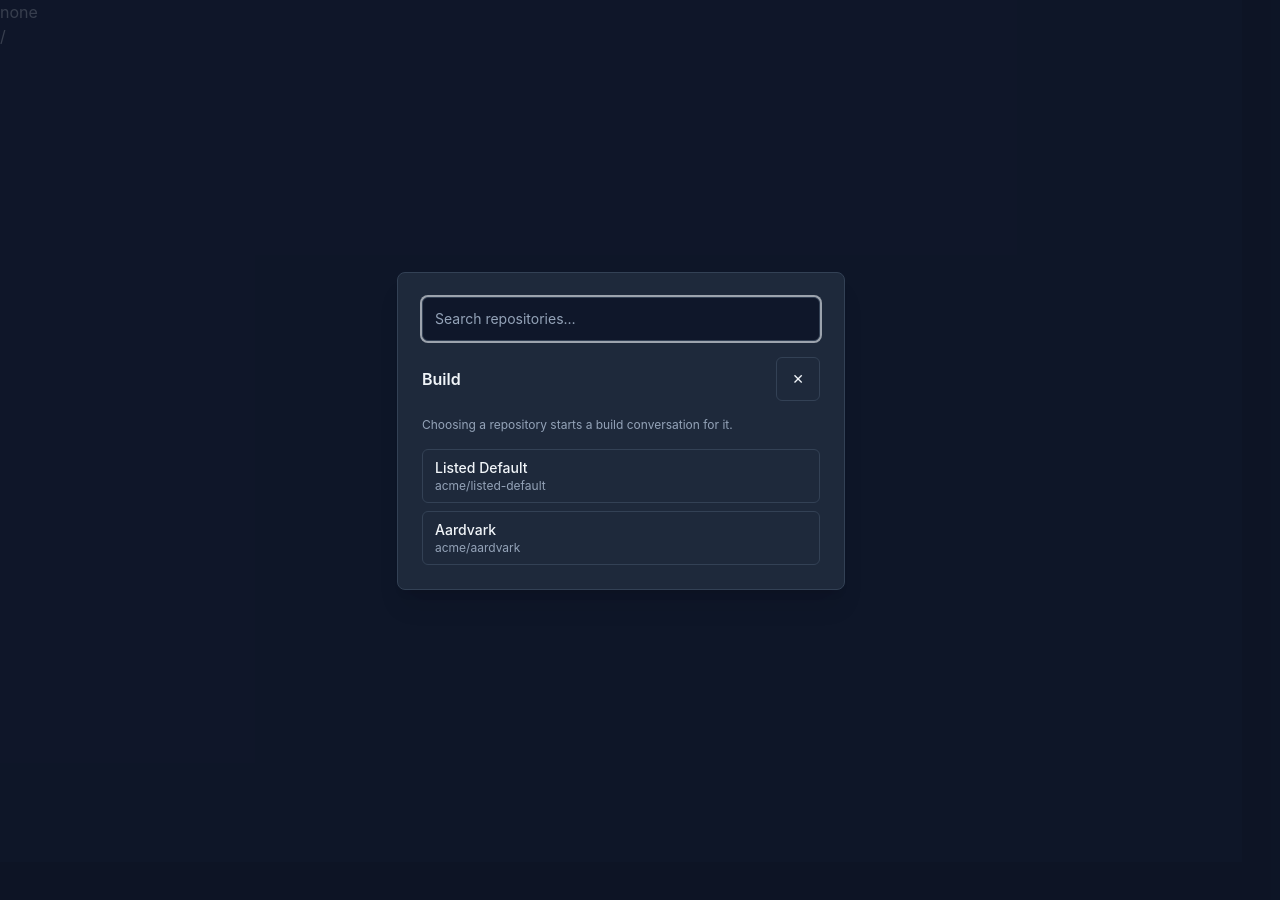
Test: CommandPalette — repository chooser with a listed default › starts a build conversation for the listed default when it is chosen
Click the button "Listed Default acme/listed-default". click: (481, 468)
box: [422,449,820,503]
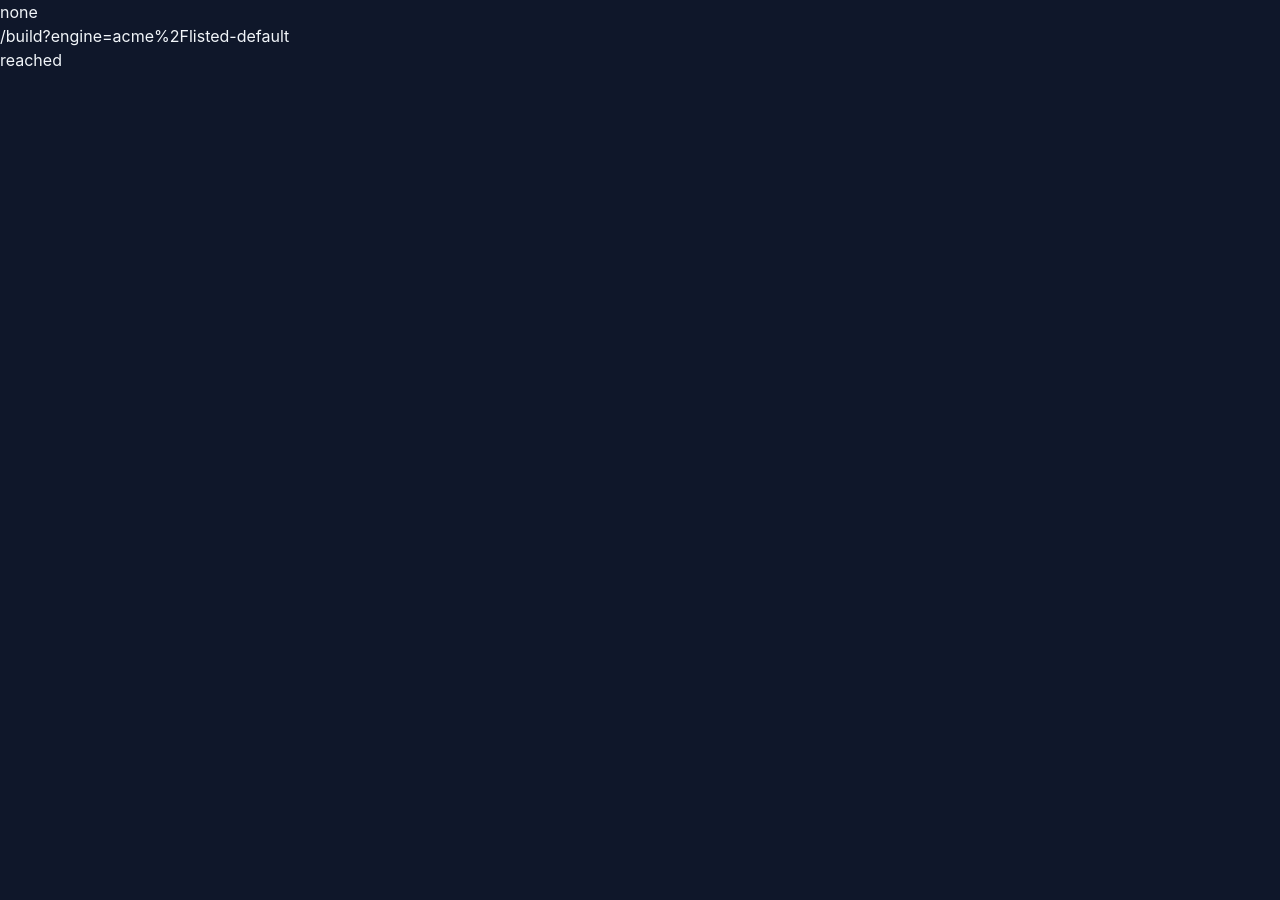
Expected: the text "reached" is shown, [0,50,62,70]
